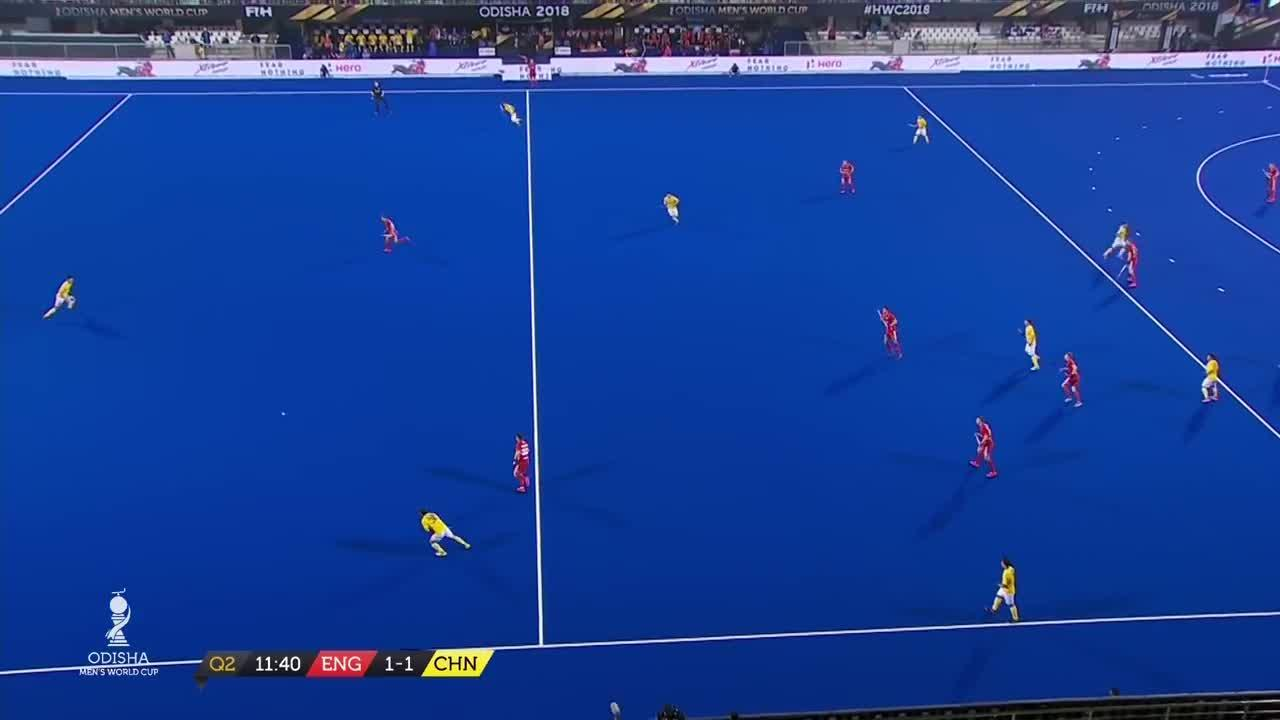ball: (280, 411, 289, 417)
